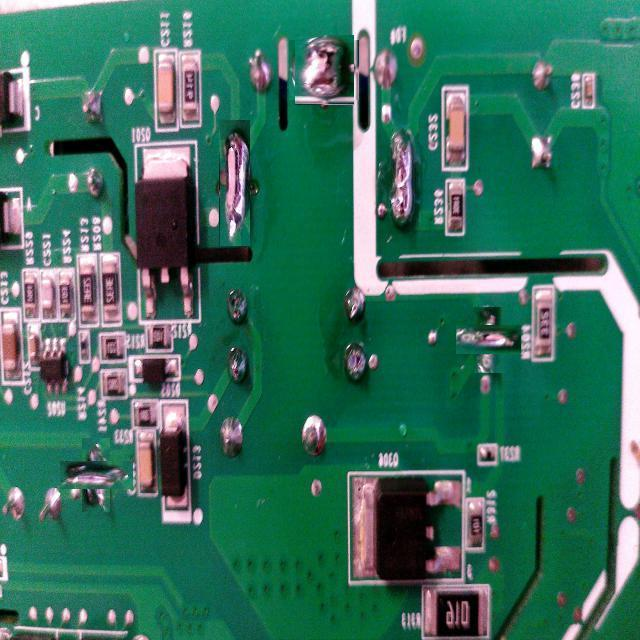Short_circuit: (292, 37, 357, 103), (219, 119, 250, 246), (388, 126, 418, 228), (71, 450, 122, 501), (465, 316, 512, 364)
